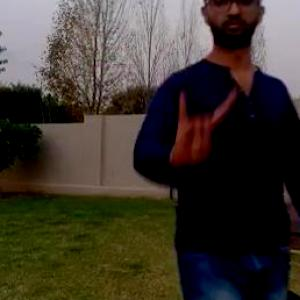takeoff-hand: (166, 82, 240, 174)
